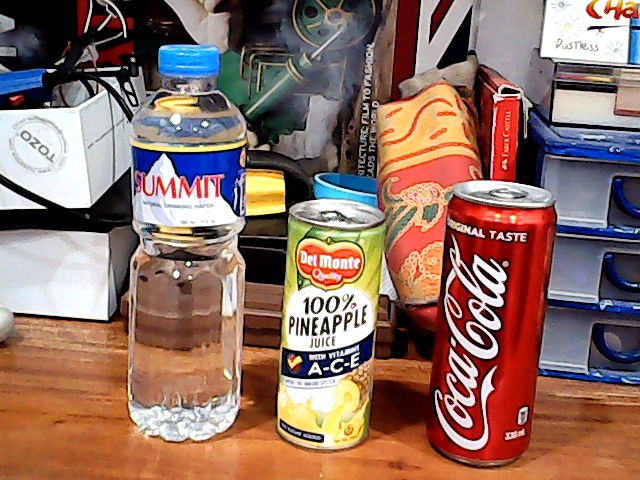Cola: (424, 175, 550, 474)
Pine Juice: (267, 186, 384, 462)
Summit Water: (102, 31, 253, 445)
